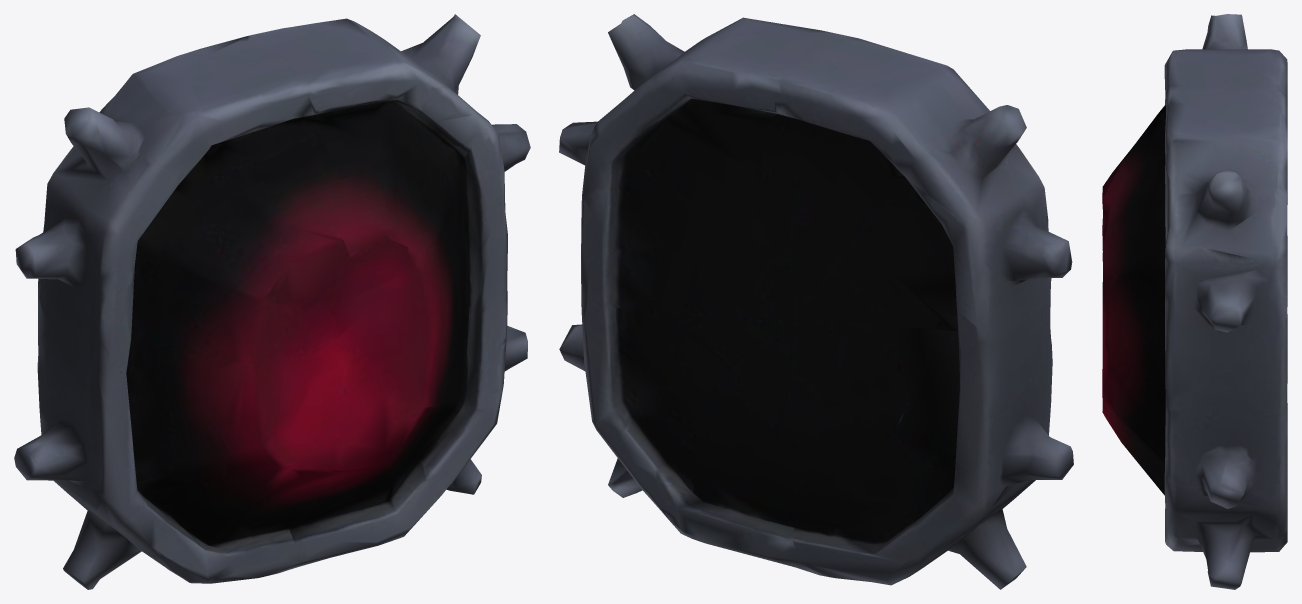
The model's file is gem_support_dark-BFHCxMIM.glb.
3 renders of one model, left to right at view 1: azimuth 30°, elevation 25°; view 2: azimuth 150°, elevation 25°; view 3: azimuth 270°, elevation 25°, orthographic. The views are drawn at different scales.
Parts seen in each view (by area): view 1: tripo_node_b569b0fd-8613-4804-837e-6b95fce9f168; view 2: tripo_node_b569b0fd-8613-4804-837e-6b95fce9f168; view 3: tripo_node_b569b0fd-8613-4804-837e-6b95fce9f168.
Part boxes in pixels (x1,y1,x2,y2): tripo_node_b569b0fd-8613-4804-837e-6b95fce9f168: (14,14,530,589); tripo_node_b569b0fd-8613-4804-837e-6b95fce9f168: (559,14,1073,589); tripo_node_b569b0fd-8613-4804-837e-6b95fce9f168: (1102,14,1287,589).
Size of the model in its own units: 1 by 0.9294 by 0.3685.
1 material, 1 textured.
